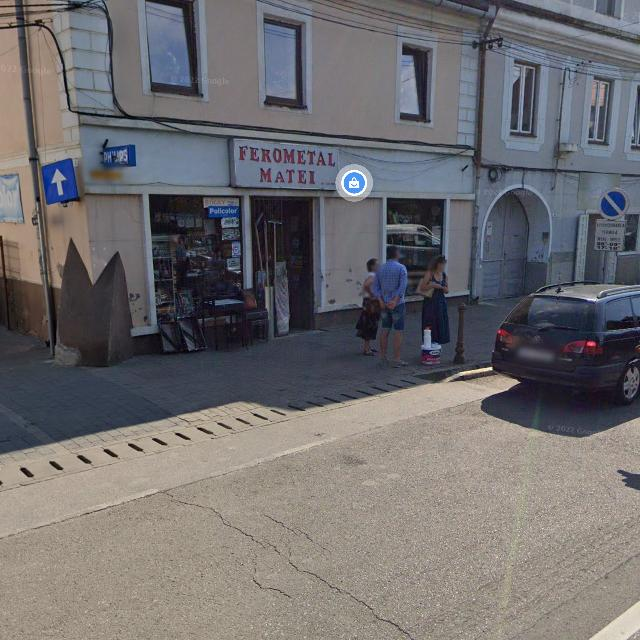info_one_way_traffic: (40, 158, 79, 205)
